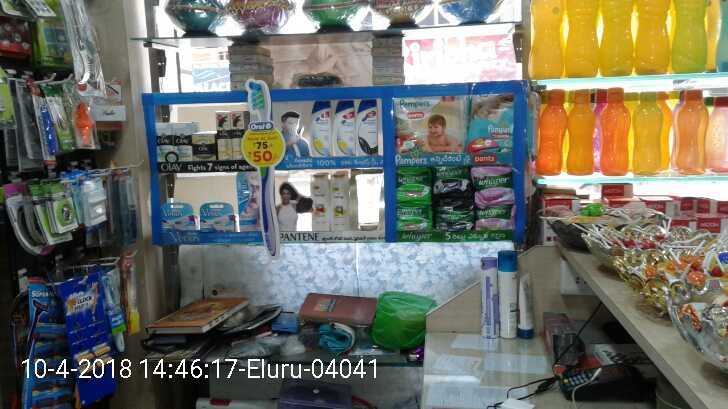venus: (236, 171, 265, 233), (200, 204, 237, 233), (161, 203, 197, 229)
